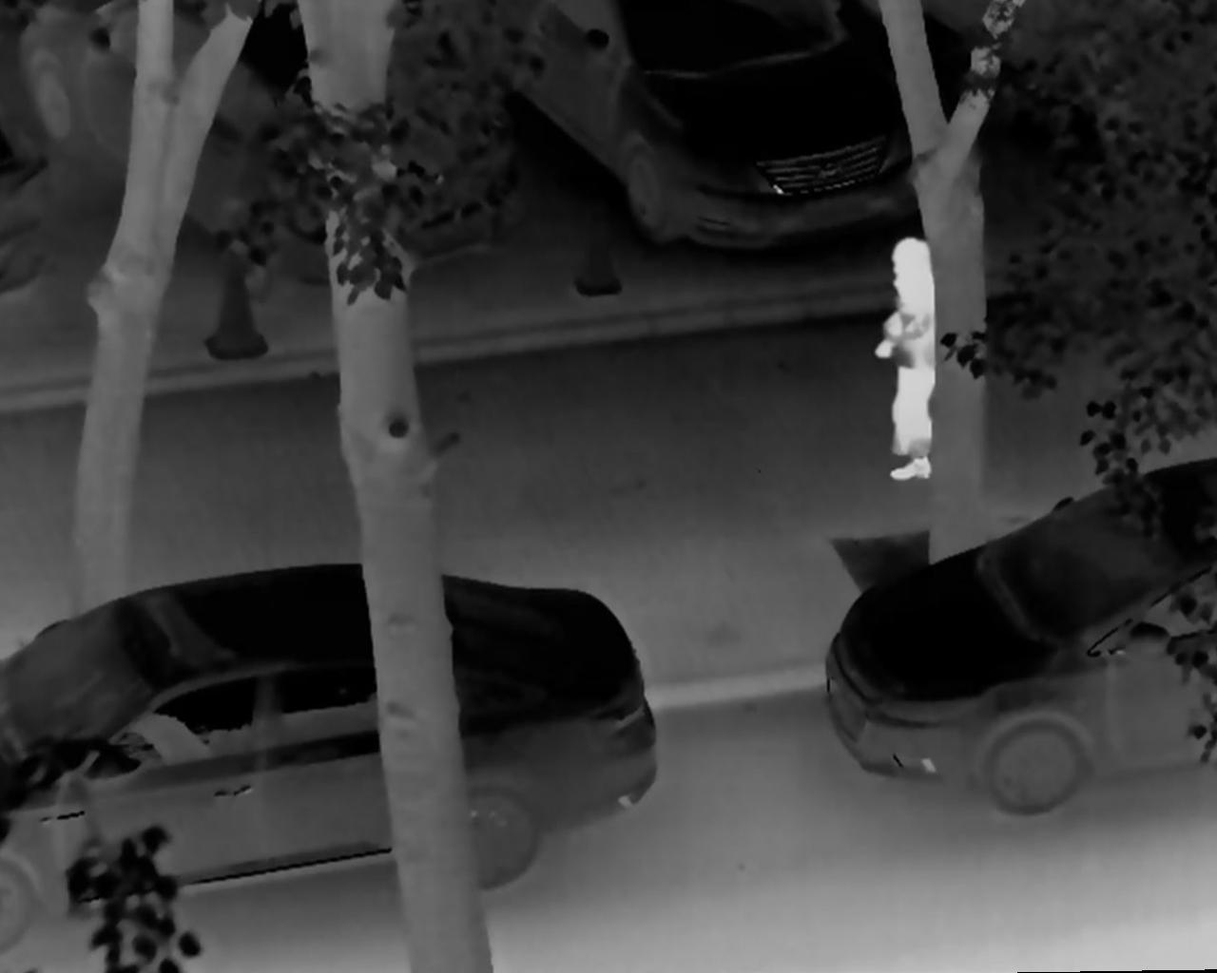person: (876, 238, 967, 485)
